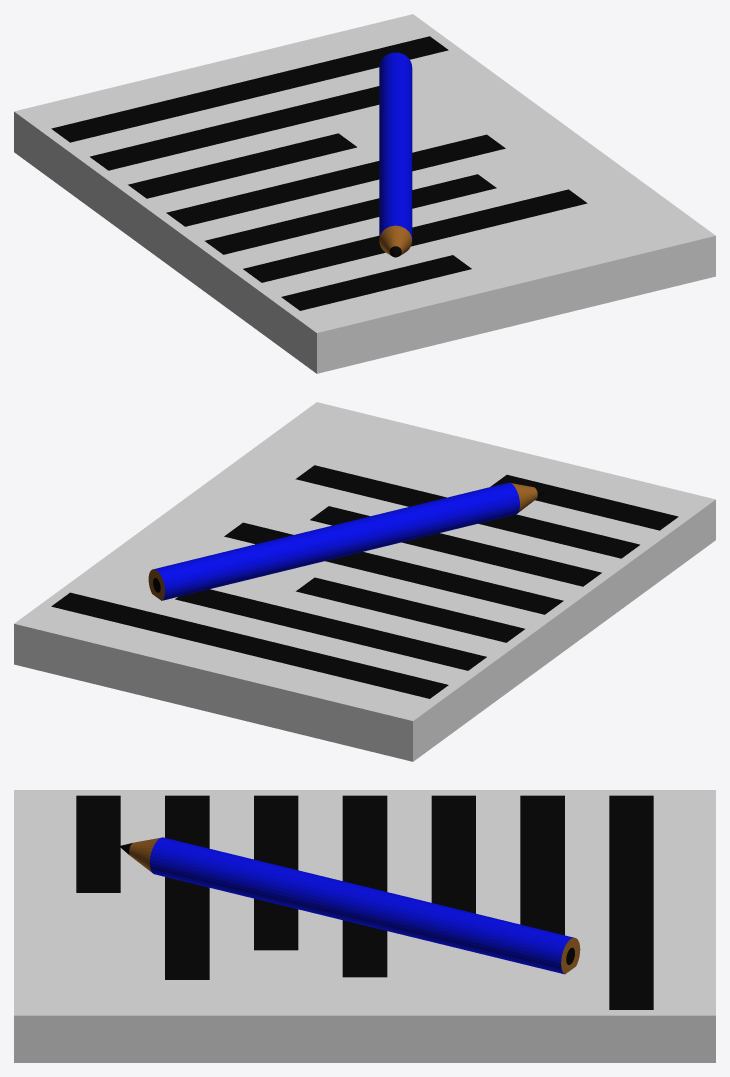
Rendered from Paper.glb.
The picture shows the model from 3 angles, top to bottom: view 1: azimuth 30°, elevation 25°; view 2: azimuth 150°, elevation 25°; view 3: azimuth 270°, elevation 25°; orthographic projection. The views are drawn at different scales.
Parts seen in each view (by area): view 1: Cube, Cylinder; view 2: Cube, Cylinder; view 3: Cube, Cylinder.
Part boxes in pixels (x1,y1,x2,y2): Cube: (14,14,715,373); Cylinder: (379,52,412,257); Cube: (14,402,715,761); Cylinder: (148,482,546,600); Cube: (14,790,715,1062); Cylinder: (119,837,580,974).
Size of the model in its own units: 1.23 by 0.2002 by 1.62.
